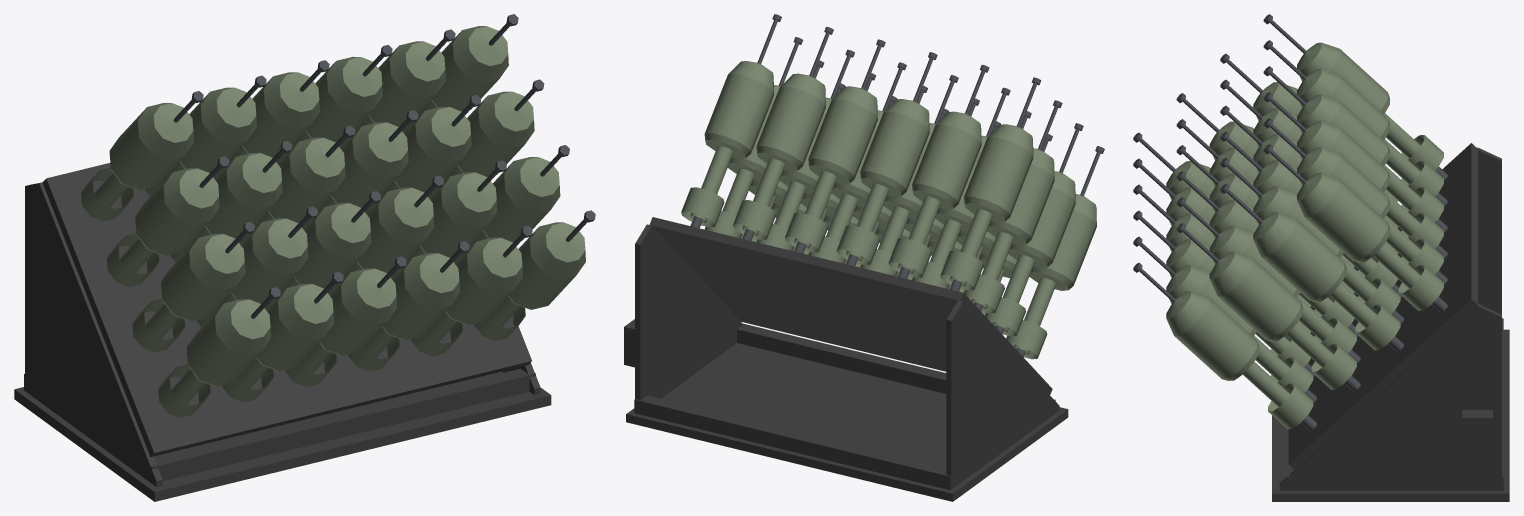
File: hedgerow.obj
The picture shows the model from 3 angles, left to right: view 1: azimuth 30°, elevation 25°; view 2: azimuth 150°, elevation 25°; view 3: azimuth 270°, elevation 25°; orthographic projection. The views are drawn at different scales.
Visible parts, largest first — view 1: turret_2, turret_0, turret_1; view 2: turret_0, turret_2, turret_1; view 3: turret_2, turret_0, turret_1.
Boxes of the visible parts, box(x1,y1,x2,y2) form: turret_2: box(81, 26, 585, 417); turret_0: box(14, 163, 551, 501); turret_1: box(174, 14, 595, 318); turret_0: box(624, 217, 1068, 501); turret_2: box(681, 61, 1096, 359); turret_1: box(690, 14, 1104, 356); turret_2: box(1166, 42, 1443, 429); turret_0: box(1272, 143, 1509, 501); turret_1: box(1133, 14, 1447, 431).
Bounding box in the file's own units: 1.3 × 1.22 × 1.22.
